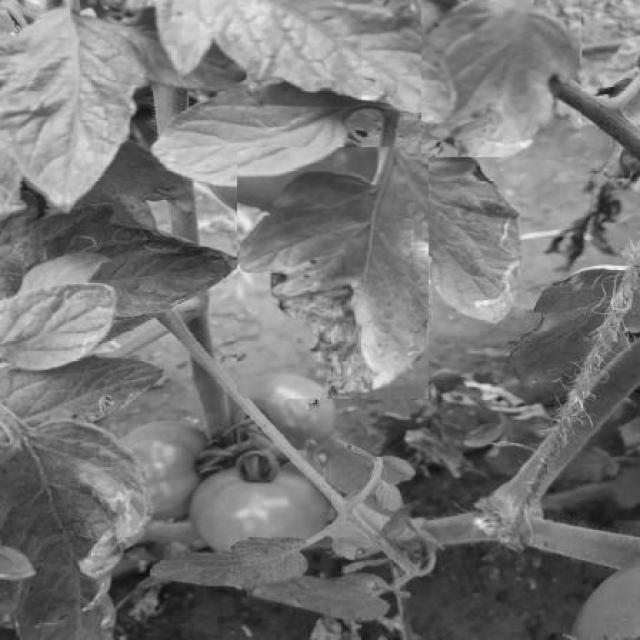Early Blight: (238, 148, 428, 399), (422, 0, 582, 157)
